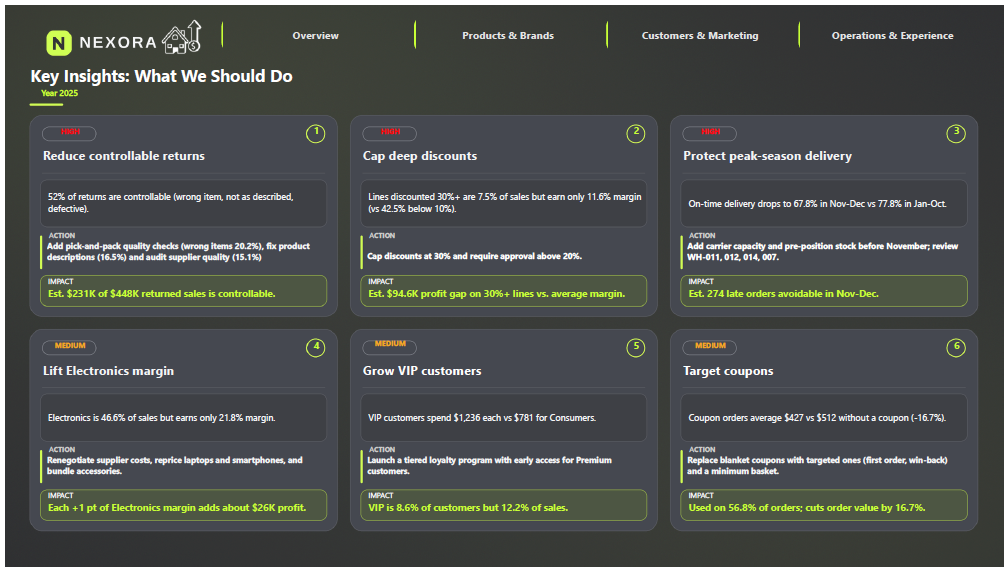

The dashboard page shown, as its layout file describes it:
{"tool":"powerbi","page":{"name":"Key Insights","canvas":[1920,1080],"ordinal":5},"visuals":[{"type":"actionButton","title":"D_Home Button","box":[48,16,336,80],"z":0},{"type":"textbox","box":[72,232,104,28],"z":0,"group":"g6"},{"type":"textbox","box":[688,232,104,28],"z":0,"group":"g5"},{"type":"textbox","box":[1304,232,104,28],"z":0,"group":"g4"},{"type":"textbox","box":[72,644,104,28],"z":0,"group":"g3"},{"type":"textbox","box":[1304,644,104,28],"z":0,"group":"g1"},{"type":"textbox","box":[580,228,36,36],"z":1000,"group":"g6"},{"type":"textbox","box":[1196,228,36,36],"z":1000,"group":"g5"},{"type":"textbox","box":[1812,228,36,36],"z":1000,"group":"g4"},{"type":"textbox","box":[580,640,36,36],"z":1000,"group":"g3"},{"type":"textbox","box":[1196,640,36,36],"z":1000,"group":"g2"},{"type":"textbox","box":[1812,640,36,36],"z":1000,"group":"g1"},{"type":"pageNavigator","box":[416,16,1472,80],"z":2000},{"type":"textbox","box":[72,272,544,44],"z":2000,"group":"g6"},{"type":"textbox","box":[688,272,544,44],"z":2000,"group":"g5"},{"type":"textbox","box":[1304,272,544,44],"z":2000,"group":"g4"},{"type":"textbox","box":[72,684,544,44],"z":2000,"group":"g3"},{"type":"textbox","box":[688,684,544,44],"z":2000,"group":"g2"},{"type":"textbox","box":[1304,684,544,44],"z":2000,"group":"g1"},{"type":"textbox","box":[684,640,112,32],"z":2500,"group":"g2"},{"type":"textbox","title":"D_Text box","box":[48,112,528,80],"z":3000},{"type":"actionButton","box":[68,334,552,92],"z":3000,"group":"g6"},{"type":"actionButton","box":[684,334,552,92],"z":3000,"group":"g5"},{"type":"actionButton","box":[1300,334,552,92],"z":3000,"group":"g4"},{"type":"actionButton","box":[68,746,552,92],"z":3000,"group":"g3"},{"type":"actionButton","box":[684,746,552,92],"z":3000,"group":"g2"},{"type":"actionButton","box":[1300,746,552,92],"z":3000,"group":"g1"},{"type":"cardVisual","fields":{"Data":["ALL Measures.Period Label"]},"box":[48,144,112,48],"z":4000},{"type":"textbox","box":[80,432,528,80],"z":4000,"group":"g6"},{"type":"textbox","box":[696,432,528,80],"z":4000,"group":"g5"},{"type":"textbox","box":[1312,432,528,80],"z":4000,"group":"g4"},{"type":"textbox","box":[80,844,528,80],"z":4000,"group":"g3"},{"type":"textbox","box":[696,844,528,80],"z":4000,"group":"g2"},{"type":"textbox","box":[1312,844,528,80],"z":4000,"group":"g1"},{"type":"textbox","box":[82,521,524,54],"z":5000,"group":"g6"},{"type":"textbox","box":[698,521,524,54],"z":5000,"group":"g5"},{"type":"textbox","box":[1314,521,524,54],"z":5000,"group":"g4"},{"type":"textbox","box":[82,933,524,54],"z":5000,"group":"g3"},{"type":"textbox","box":[698,933,524,54],"z":5000,"group":"g2"},{"type":"textbox","box":[1314,933,524,54],"z":5000,"group":"g1"},{"type":"group","id":"g1","title":"Group 6","box":[1300,640,552,347],"z":10000},{"type":"group","id":"g2","title":"Group 5","box":[684,640,552,347],"z":10031},{"type":"group","id":"g3","title":"Group 4","box":[68,640,552,347],"z":10062},{"type":"group","id":"g4","title":"Group 3","box":[1300,228,552,347],"z":10125},{"type":"group","id":"g5","title":"Group 2","box":[684,228,552,347],"z":10250},{"type":"group","id":"g6","title":"Group 1","box":[68,228,552,347],"z":10500}]}

Visuals, with their boxes in screenshot pixels (x1, y1, x2, y2), scaled from the page's 1920x1080 canvas onto the 1007x571 screenshot:
"D_Home Button" actionButton: [left=25, top=8, right=201, bottom=51]
textbox: [left=38, top=123, right=92, bottom=137]
textbox: [left=361, top=123, right=415, bottom=137]
textbox: [left=684, top=123, right=738, bottom=137]
textbox: [left=38, top=340, right=92, bottom=355]
textbox: [left=684, top=340, right=738, bottom=355]
textbox: [left=304, top=121, right=323, bottom=140]
textbox: [left=627, top=121, right=646, bottom=140]
textbox: [left=950, top=121, right=969, bottom=140]
textbox: [left=304, top=338, right=323, bottom=357]
textbox: [left=627, top=338, right=646, bottom=357]
textbox: [left=950, top=338, right=969, bottom=357]
pageNavigator: [left=218, top=8, right=990, bottom=51]
textbox: [left=38, top=144, right=323, bottom=167]
textbox: [left=361, top=144, right=646, bottom=167]
textbox: [left=684, top=144, right=969, bottom=167]
textbox: [left=38, top=362, right=323, bottom=385]
textbox: [left=361, top=362, right=646, bottom=385]
textbox: [left=684, top=362, right=969, bottom=385]
textbox: [left=359, top=338, right=417, bottom=355]
"D_Text box" textbox: [left=25, top=59, right=302, bottom=102]
actionButton: [left=36, top=177, right=325, bottom=225]
actionButton: [left=359, top=177, right=648, bottom=225]
actionButton: [left=682, top=177, right=971, bottom=225]
actionButton: [left=36, top=394, right=325, bottom=443]
actionButton: [left=359, top=394, right=648, bottom=443]
actionButton: [left=682, top=394, right=971, bottom=443]
cardVisual - ALL Measures.Period Label: [left=25, top=76, right=84, bottom=102]
textbox: [left=42, top=228, right=319, bottom=271]
textbox: [left=365, top=228, right=642, bottom=271]
textbox: [left=688, top=228, right=965, bottom=271]
textbox: [left=42, top=446, right=319, bottom=489]
textbox: [left=365, top=446, right=642, bottom=489]
textbox: [left=688, top=446, right=965, bottom=489]
textbox: [left=43, top=275, right=318, bottom=304]
textbox: [left=366, top=275, right=641, bottom=304]
textbox: [left=689, top=275, right=964, bottom=304]
textbox: [left=43, top=493, right=318, bottom=522]
textbox: [left=366, top=493, right=641, bottom=522]
textbox: [left=689, top=493, right=964, bottom=522]
"Group 6" group: [left=682, top=338, right=971, bottom=522]
"Group 5" group: [left=359, top=338, right=648, bottom=522]
"Group 4" group: [left=36, top=338, right=325, bottom=522]
"Group 3" group: [left=682, top=121, right=971, bottom=304]
"Group 2" group: [left=359, top=121, right=648, bottom=304]
"Group 1" group: [left=36, top=121, right=325, bottom=304]
